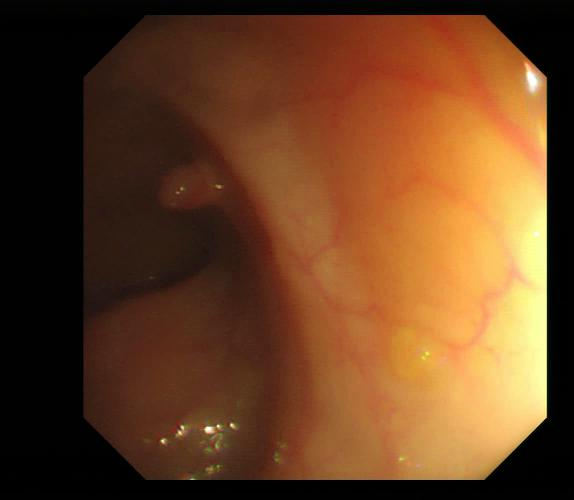polyp: (154, 159, 223, 210)
